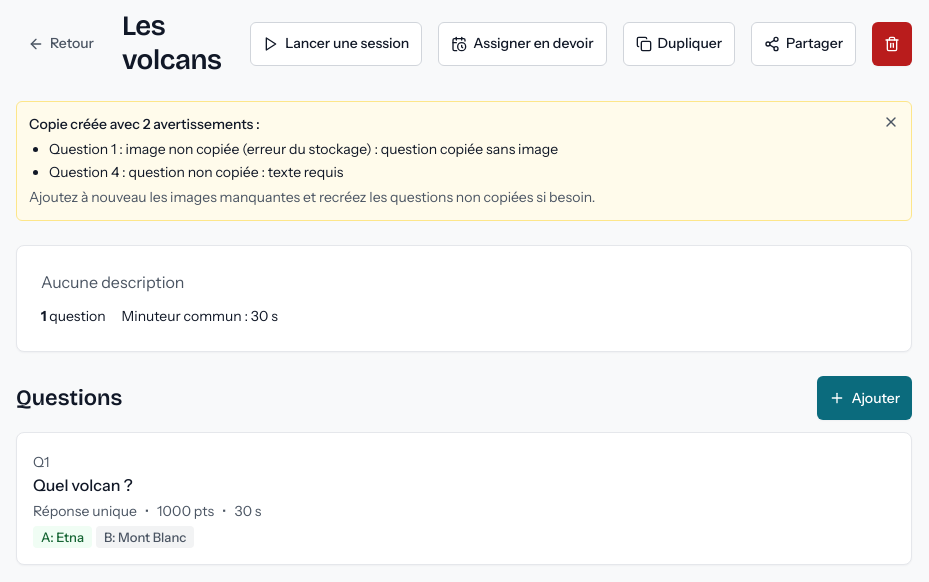
Test: Page du quiz : dupliquer et partager › affiche la liste des avertissements sur la copie (images et questions non copiées)
This screenshot has width=929, height=582.
Expected: the message with test id "copy-warnings" shows "Copie créée avec 2 avertissements", [29,115,260,133]
Expected: the 1st list item shows "Question 1 : image non copiée", [49,140,558,158]
Step 1. Click the button named "Masquer les avertissements" → (891, 122), box [883,114,899,130]
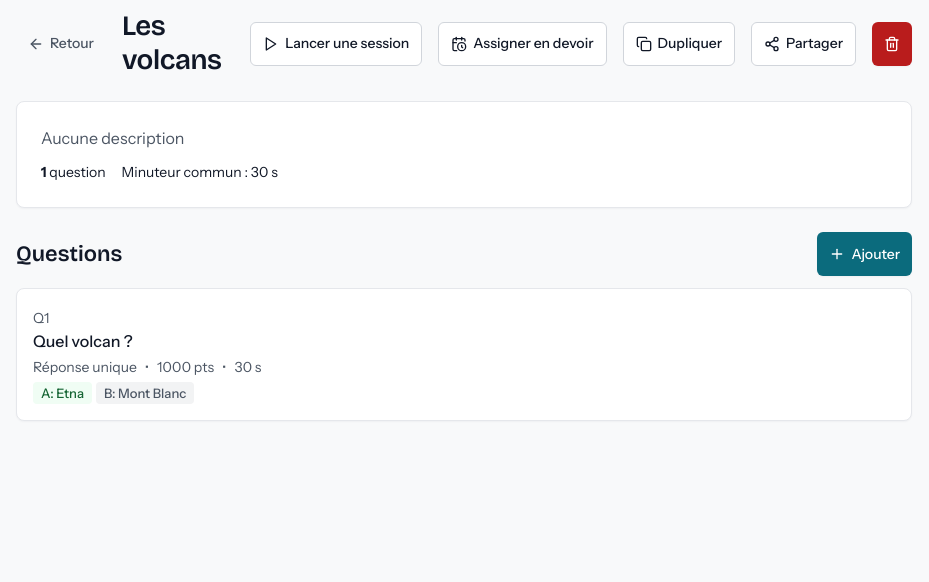
Now the message with test id "copy-warnings" is gone
